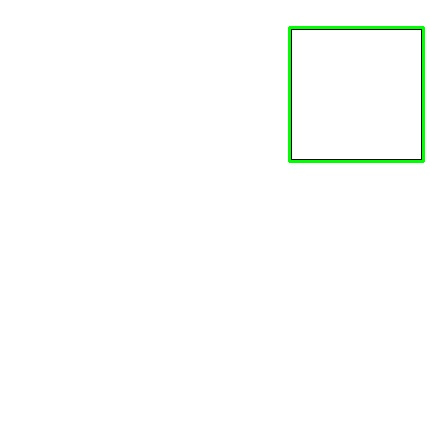line_segment: (288, 26, 425, 163)
